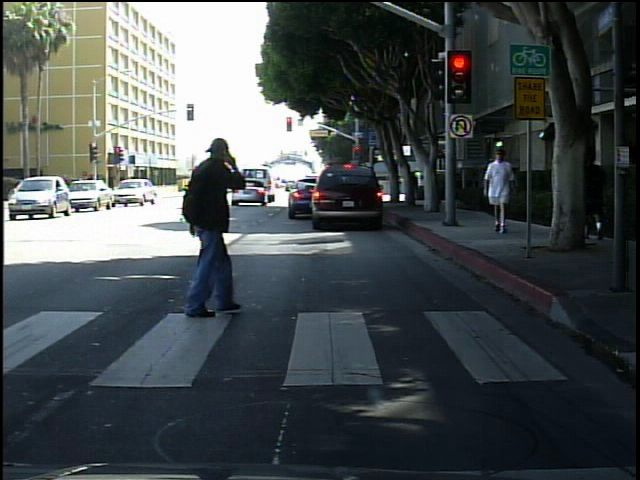person: (151, 121, 262, 335), (480, 145, 523, 240), (581, 137, 611, 246)
